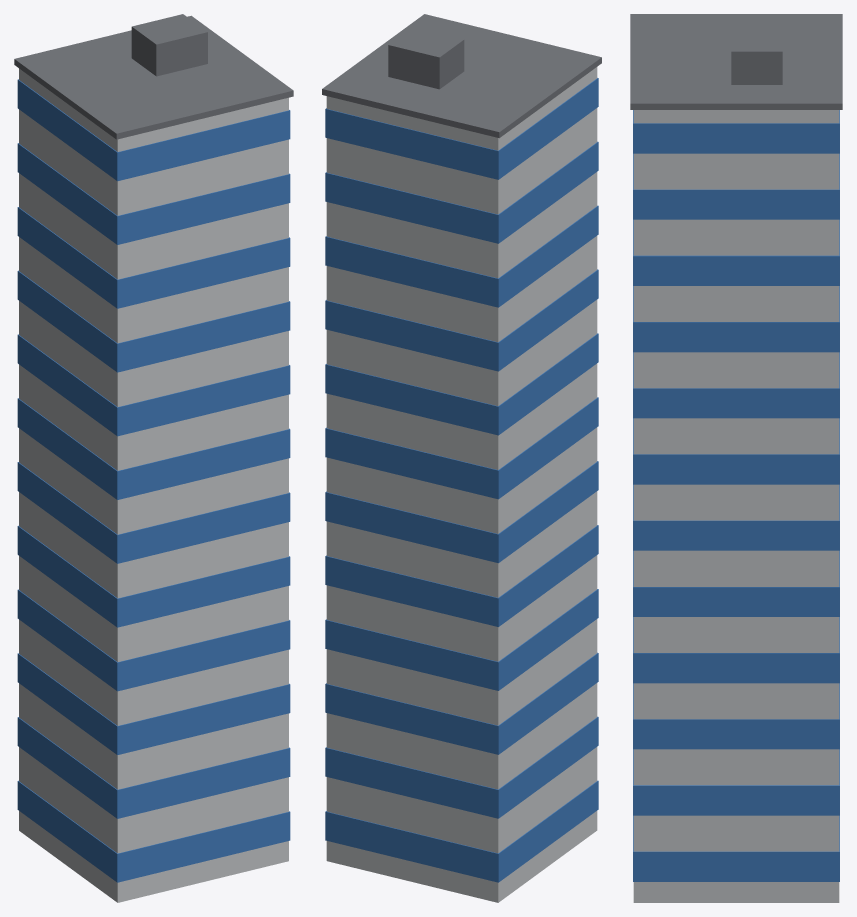
File: Building_Background_03.fbx
3 views of the same model, side by side, from view 1: azimuth 30°, elevation 25°; view 2: azimuth 150°, elevation 25°; view 3: azimuth 270°, elevation 25° (orthographic). The views are drawn at different scales.
Parts seen in each view (by area): view 1: Building_Background_03_Structure, Building_Background_03_Windows, Building_Background_03_Trim; view 2: Building_Background_03_Structure, Building_Background_03_Windows, Building_Background_03_Trim; view 3: Building_Background_03_Structure, Building_Background_03_Windows, Building_Background_03_Trim.
Boxes of the visible parts, <box> form: Building_Background_03_Structure: <box>19,68,288,902</box>; Building_Background_03_Windows: <box>17,79,290,882</box>; Building_Background_03_Trim: <box>14,14,293,139</box>; Building_Background_03_Structure: <box>326,67,597,902</box>; Building_Background_03_Windows: <box>325,78,598,882</box>; Building_Background_03_Trim: <box>322,14,601,138</box>; Building_Background_03_Structure: <box>633,110,839,902</box>; Building_Background_03_Windows: <box>633,110,839,881</box>; Building_Background_03_Trim: <box>630,14,842,109</box>.
Size of the model in its own units: 9.3 by 40.3 by 9.3.
